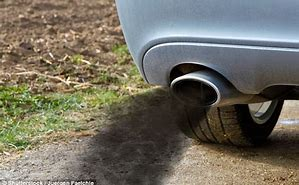smoke: (83, 84, 213, 185)
